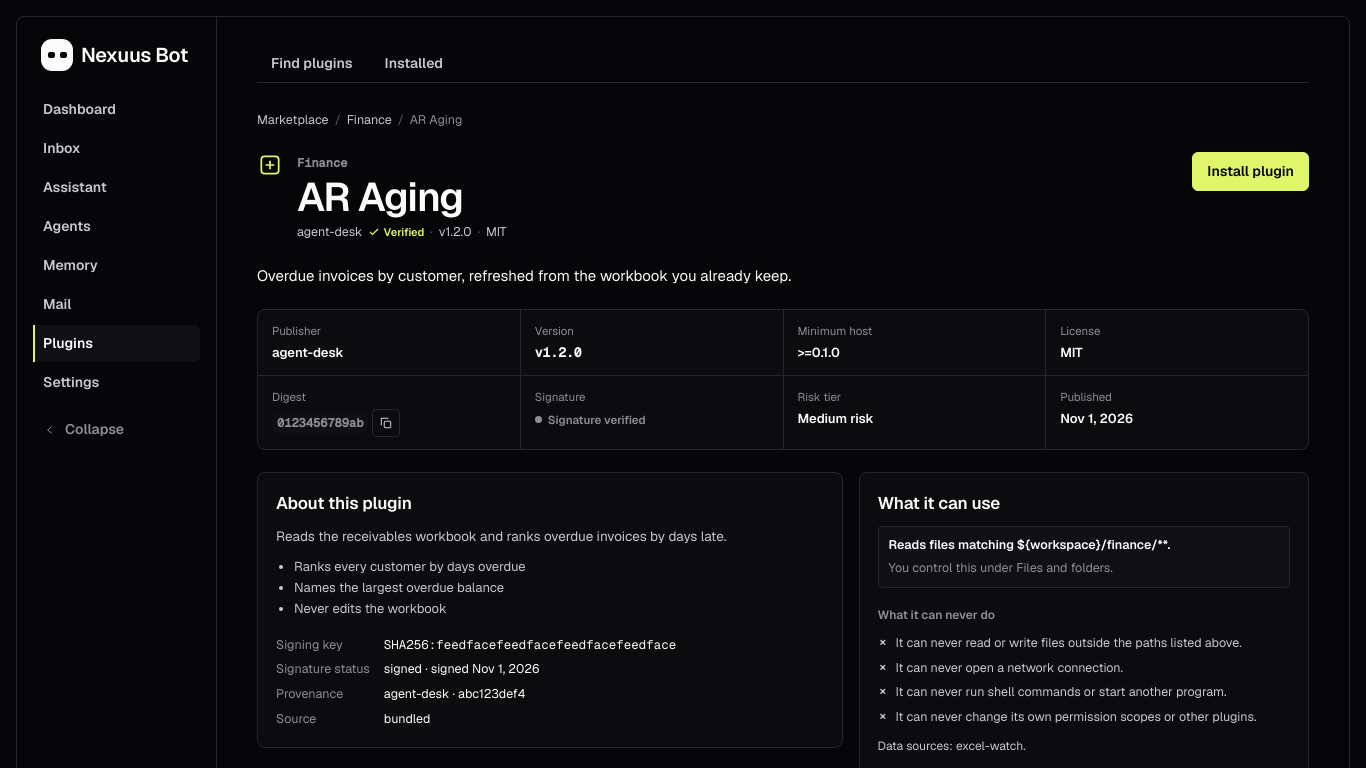
Test case: plugin detail › opens a consent sheet for a fresh install, then posts id and version
The width and height of the screenshot is (1366, 768).
Expected: the heading "AR Aging" is shown, [297,171,463,223]
Click the button "Install plugin" at (1251, 171), box [1192,152,1309,191]
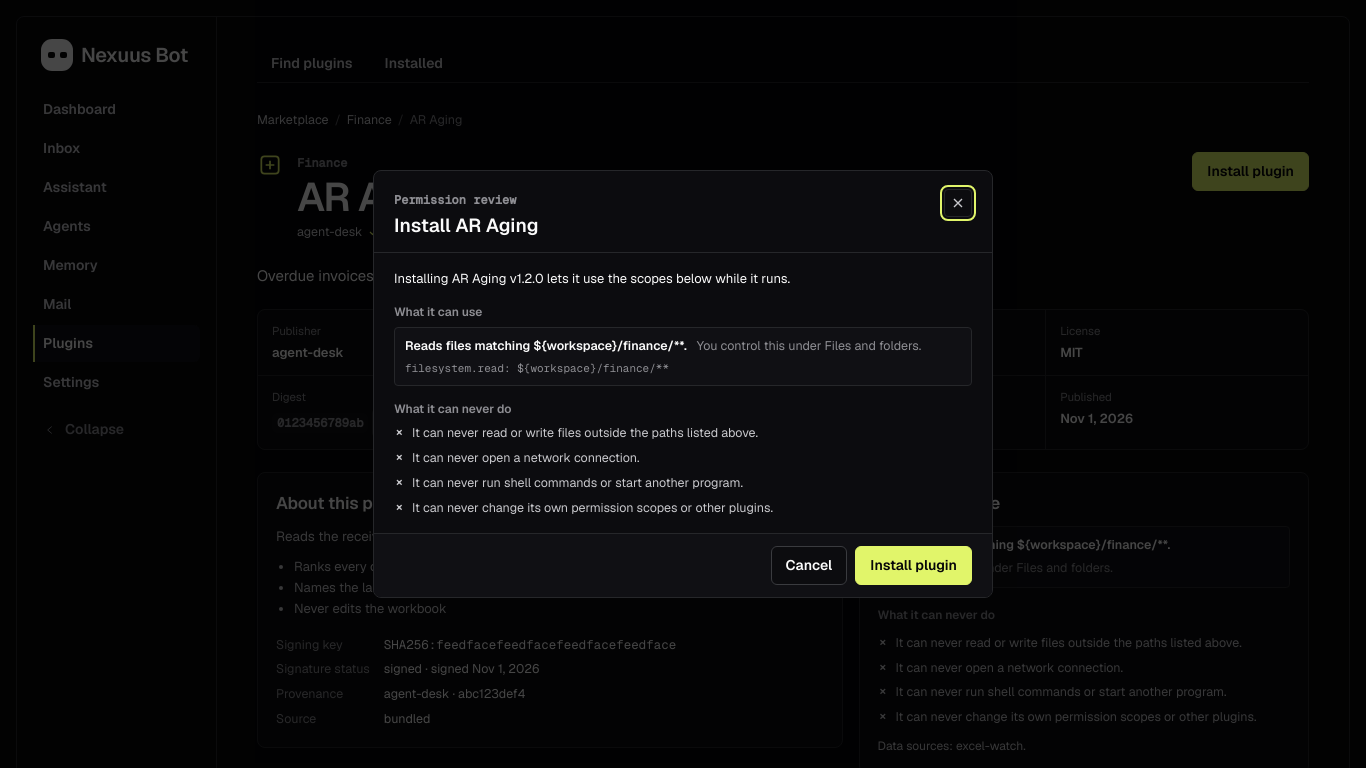
Result: the text "Reads files matching ${workspace}/finance/**." is shown at [405,337,687,356]
Result: the list item "It can never open a network connection." is shown at [412,449,640,466]
Click the button "Install plugin" at (914, 566), box [855,546,972,585]
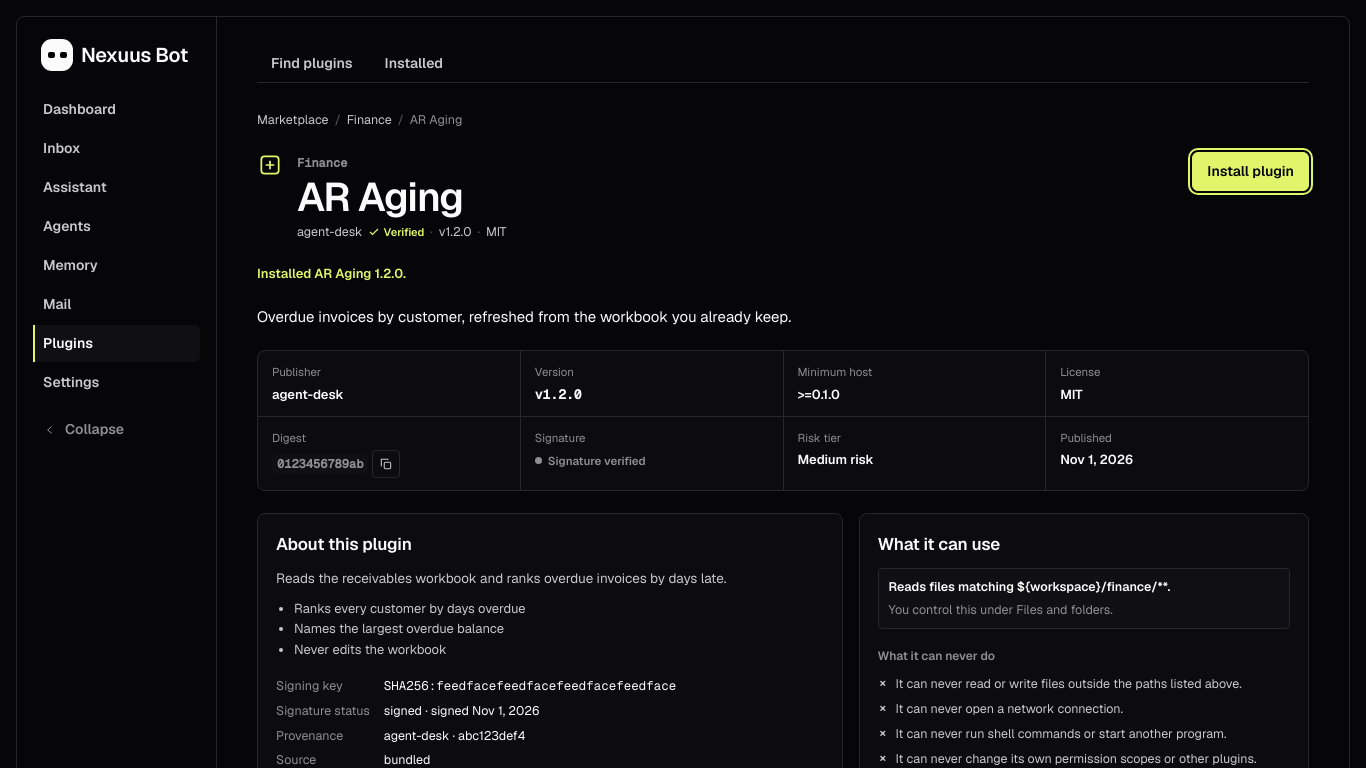
Result: the text "Installed AR Aging 1.2.0." is shown at [257,264,406,282]
